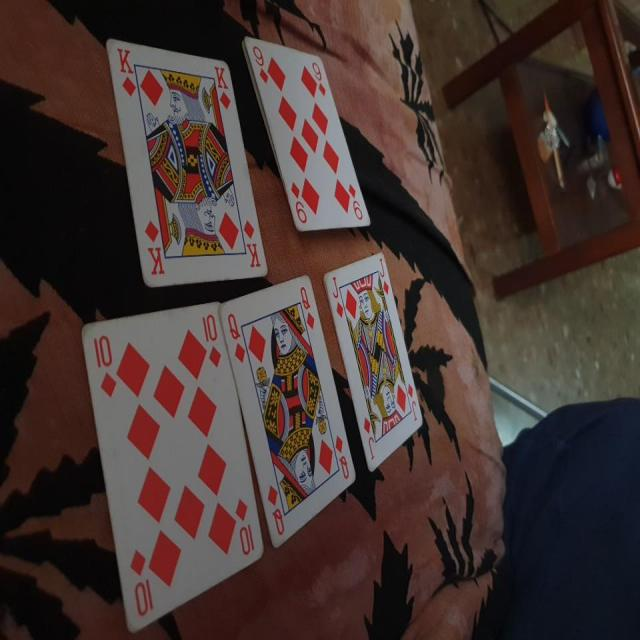10 Diamonds: (78, 300, 264, 633)
9 Diamonds: (242, 37, 372, 231)
J Diamonds: (322, 250, 423, 476)
K Diamonds: (104, 36, 268, 288)
Q Diamonds: (218, 272, 358, 551)
